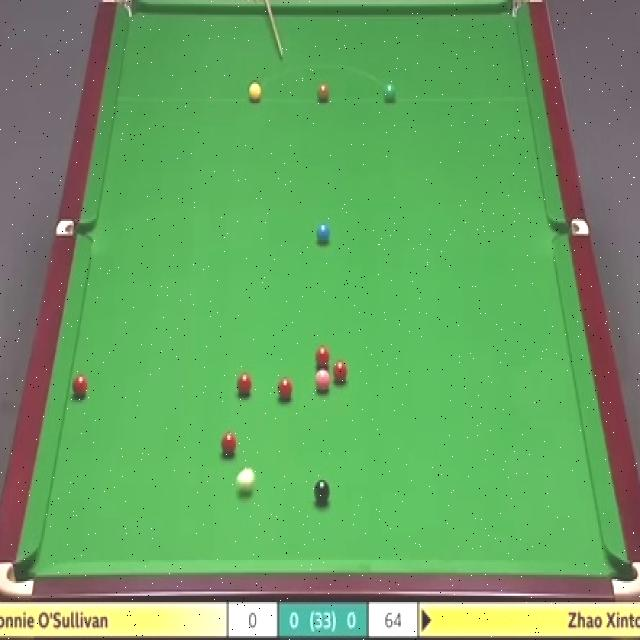black-ball: (313, 480, 331, 504)
blue-ball: (316, 224, 331, 245)
brown-ball: (317, 81, 330, 102)
green-ball: (382, 82, 398, 104)
pink-ball: (316, 371, 331, 395)
red-ball: (237, 372, 253, 398), (332, 360, 348, 386), (278, 377, 294, 401), (221, 432, 237, 455), (73, 376, 88, 398), (316, 346, 329, 368)
white-ball: (235, 465, 256, 495)
yellow-ball: (248, 79, 261, 103)
